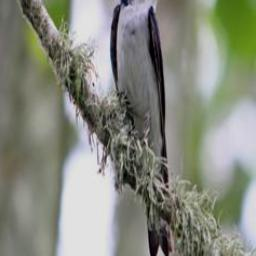Swallow: (109, 0, 176, 256)
